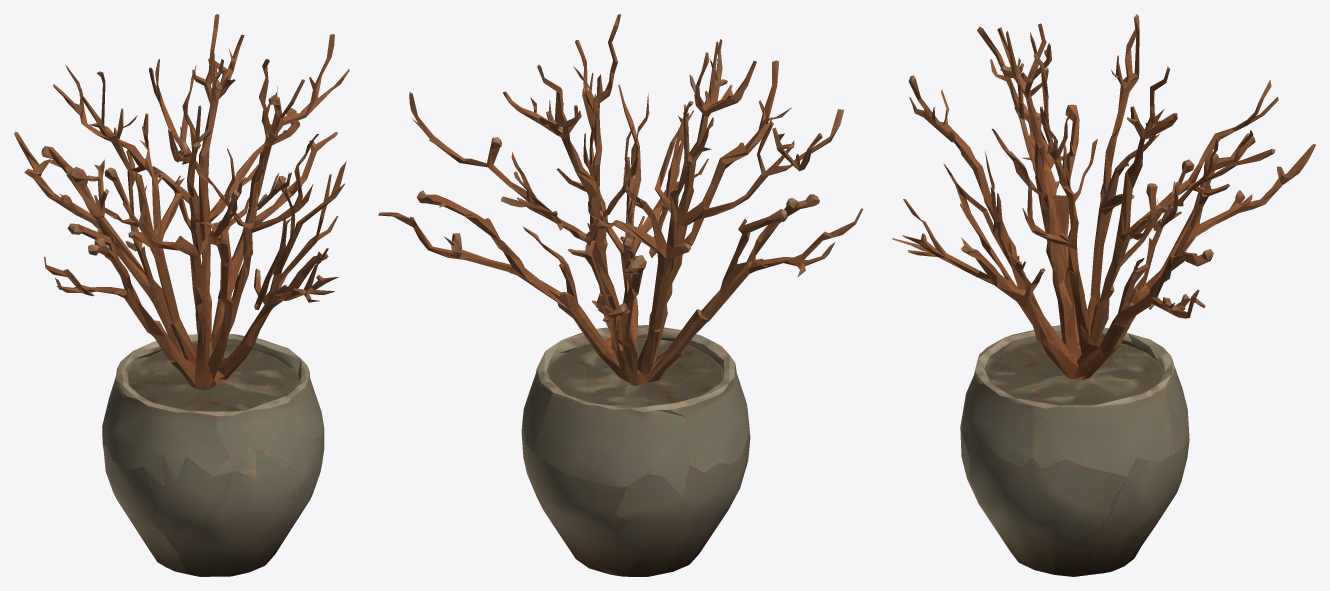
File: plant.glb
3 renders of one model, left to right at view 1: azimuth 30°, elevation 25°; view 2: azimuth 150°, elevation 25°; view 3: azimuth 270°, elevation 25°, orthographic. The views are drawn at different scales.
Bounding box in the file's own units: 1.52 × 1.9 × 1.42.
1 material, 1 textured.
